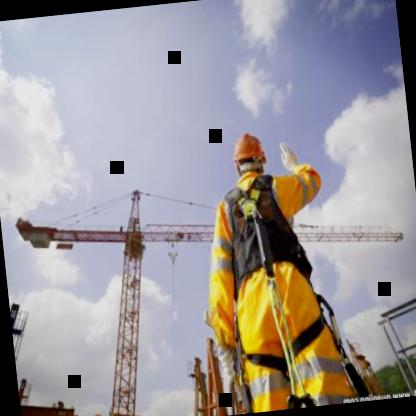helmet: (226, 126, 271, 192)
